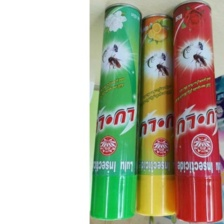insecticide: (89, 2, 143, 224), (169, 2, 222, 224), (132, 10, 176, 224)
